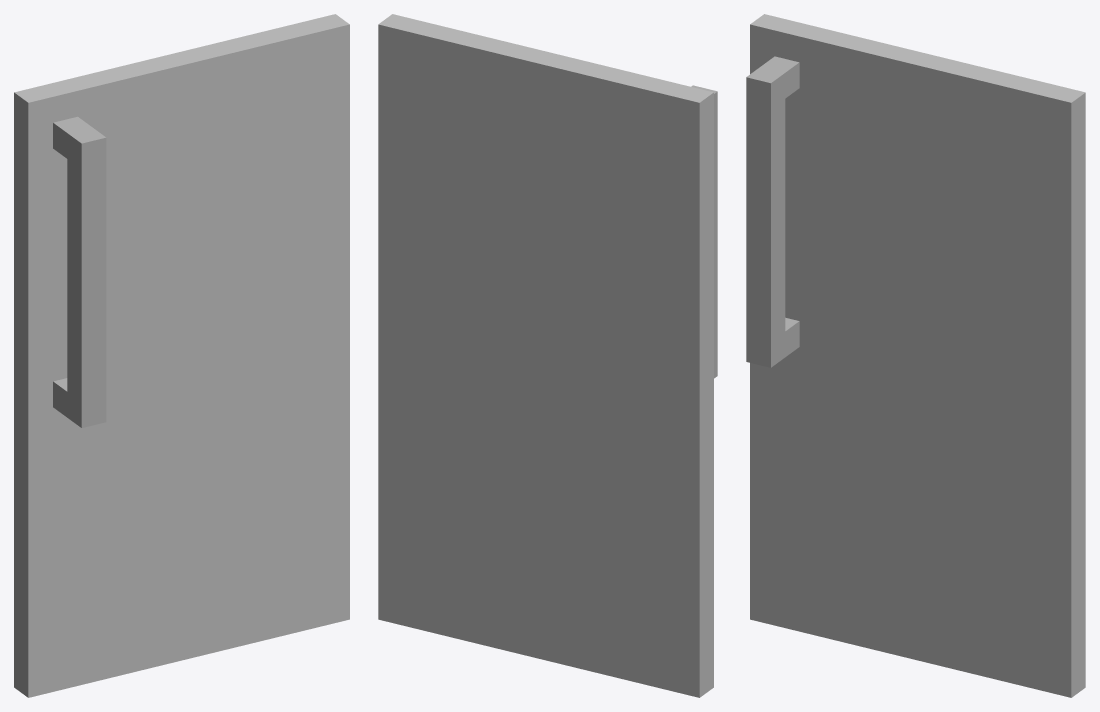
The model's file is Decor-43.obj.
3 renders of one model, left to right at view 1: azimuth 30°, elevation 25°; view 2: azimuth 150°, elevation 25°; view 3: azimuth 330°, elevation 25°, orthographic.
Bounding box in the file's own units: 1.3 × 2.3 × 0.3.
Materials: 1 (1 with a texture image).
